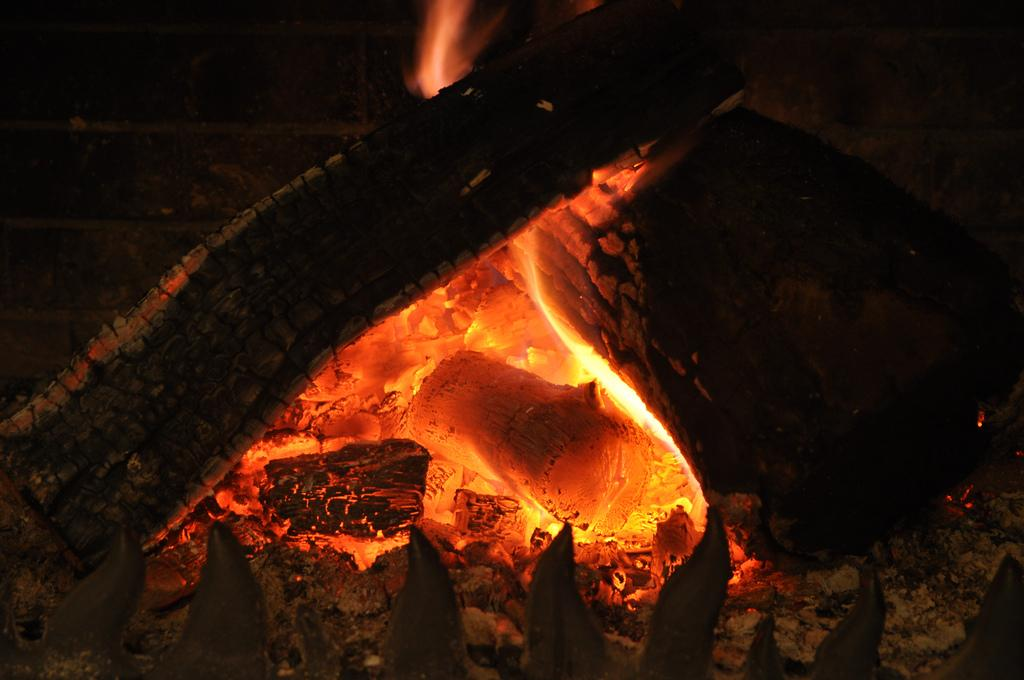fire: (395, 300, 638, 532)
